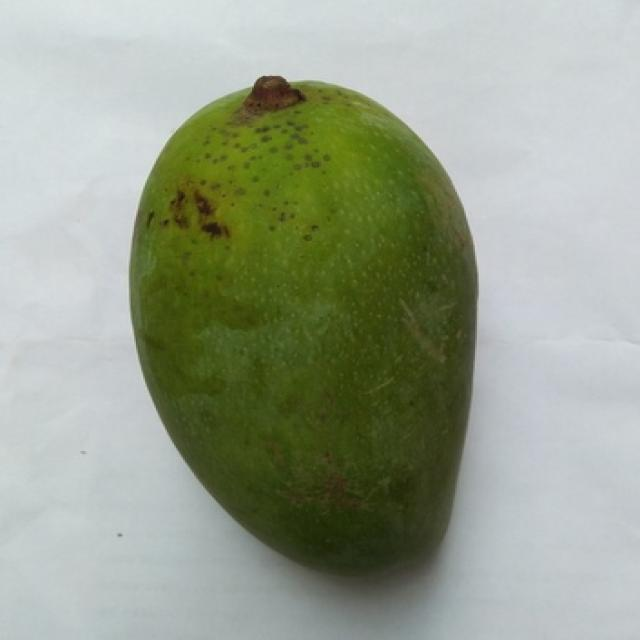Mango: (132, 77, 475, 570)
